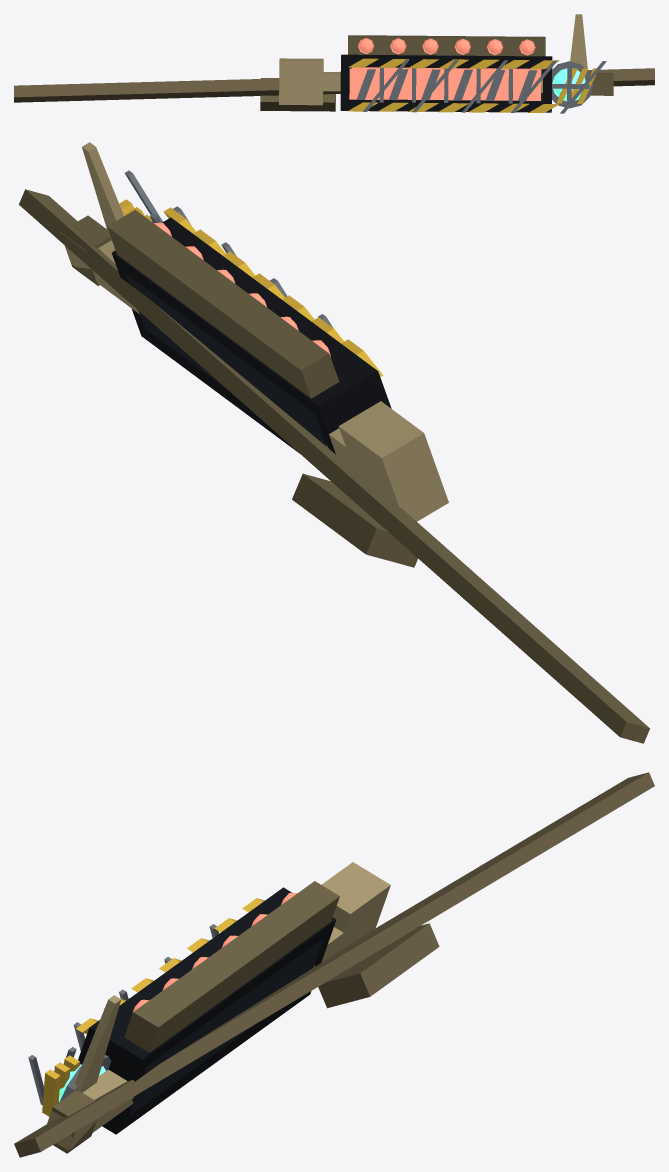
The model's file is mast.glb.
The picture shows the model from 3 angles, top to bottom: view 1: azimuth 30°, elevation 25°; view 2: azimuth 150°, elevation 25°; view 3: azimuth 270°, elevation 25°; orthographic projection. The views are drawn at different scales.
Visible parts, largest first — view 1: kvs_mast_srail, kvs_mast_lampbar, kvs_mast_collar, kvs_mast_bezel_t, kvs_mast_bezel_b, kvs_mast_foot, kvs_mast_sweep, kvs_mast_seg_3, kvs_mast_vane, kvs_mast_seg_2, kvs_mast_seg_5, kvs_mast_seg_4 (+32 smaller); view 2: kvs_mast_srail, kvs_mast_lampbar, kvs_mast_collar, kvs_mast_bezel_t, kvs_mast_foot, kvs_mast_bore, kvs_mast_bezel_l, kvs_mast_vane, kvs_mast_bezel_b, kvs_mast_rod, kvs_mast_knob; view 3: kvs_mast_srail, kvs_mast_lampbar, kvs_mast_bezel_t, kvs_mast_foot, kvs_mast_bore, kvs_mast_collar, kvs_mast_rod, kvs_mast_bezel_r, kvs_mast_bezel_b, kvs_mast_vane, kvs_mast_knob, kvs_mast_capstripe_2.
Boxes of the visible parts, <box> form: kvs_mast_srail: <box>14,68,654,102</box>; kvs_mast_lampbar: <box>348,35,545,56</box>; kvs_mast_collar: <box>279,58,323,105</box>; kvs_mast_bezel_t: <box>341,54,552,68</box>; kvs_mast_bezel_b: <box>340,100,551,112</box>; kvs_mast_foot: <box>260,78,335,111</box>; kvs_mast_sweep: <box>349,68,379,99</box>; kvs_mast_seg_3: <box>448,68,476,100</box>; kvs_mast_vane: <box>570,14,587,81</box>; kvs_mast_seg_2: <box>416,68,444,99</box>; kvs_mast_seg_5: <box>512,68,541,100</box>; kvs_mast_seg_4: <box>480,68,508,100</box>; kvs_mast_srail: <box>19,189,649,743</box>; kvs_mast_lampbar: <box>107,209,339,398</box>; kvs_mast_collar: <box>338,401,448,521</box>; kvs_mast_bezel_t: <box>112,217,376,419</box>; kvs_mast_foot: <box>292,473,417,567</box>; kvs_mast_bore: <box>125,273,326,446</box>; kvs_mast_bezel_l: <box>315,365,391,454</box>; kvs_mast_vane: <box>82,142,123,240</box>; kvs_mast_bezel_b: <box>137,323,299,453</box>; kvs_mast_rod: <box>64,240,353,469</box>; kvs_mast_knob: <box>60,215,111,285</box>; kvs_mast_srail: <box>14,772,654,1157</box>; kvs_mast_lampbar: <box>124,881,339,1052</box>; kvs_mast_bezel_t: <box>90,888,336,1071</box>; kvs_mast_foot: <box>318,923,439,1008</box>; kvs_mast_bore: <box>129,938,323,1115</box>; kvs_mast_collar: <box>321,862,390,952</box>; kvs_mast_rod: <box>47,927,343,1150</box>; kvs_mast_bezel_r: <box>78,1027,150,1134</box>; kvs_mast_bezel_b: <box>102,993,309,1134</box>; kvs_mast_vane: <box>74,995,121,1092</box>; kvs_mast_knob: <box>52,1090,102,1153</box>; kvs_mast_capstripe_2: <box>42,1069,60,1116</box>.
Size of the model in its own units: 0.1671 by 0.0319 by 0.1074.
